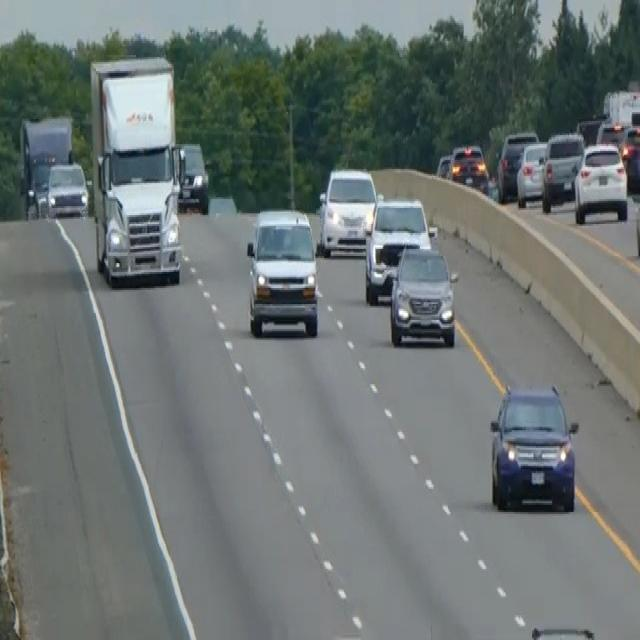car: (488, 379, 579, 512), (363, 196, 433, 304), (388, 240, 457, 348), (317, 165, 378, 256), (572, 139, 628, 224), (541, 128, 584, 212), (495, 128, 538, 201), (46, 158, 88, 219), (176, 139, 209, 213), (515, 139, 548, 206), (449, 142, 489, 194), (27, 158, 52, 217), (619, 123, 639, 192), (595, 118, 628, 150), (435, 151, 452, 180)
lorry: (88, 53, 184, 288)
minivan: (245, 204, 319, 338)
